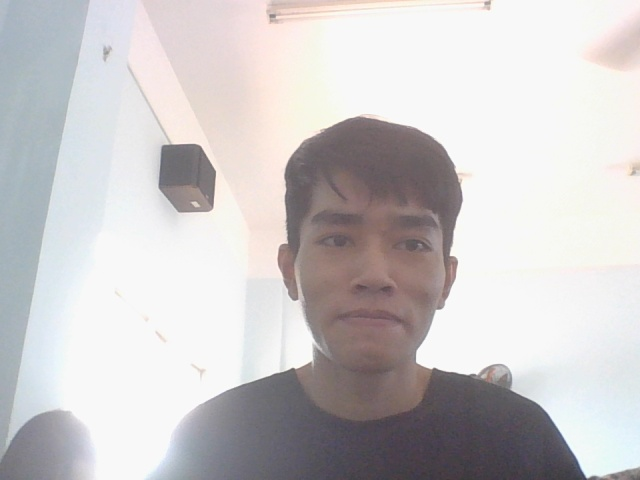real: (273, 101, 475, 388)
